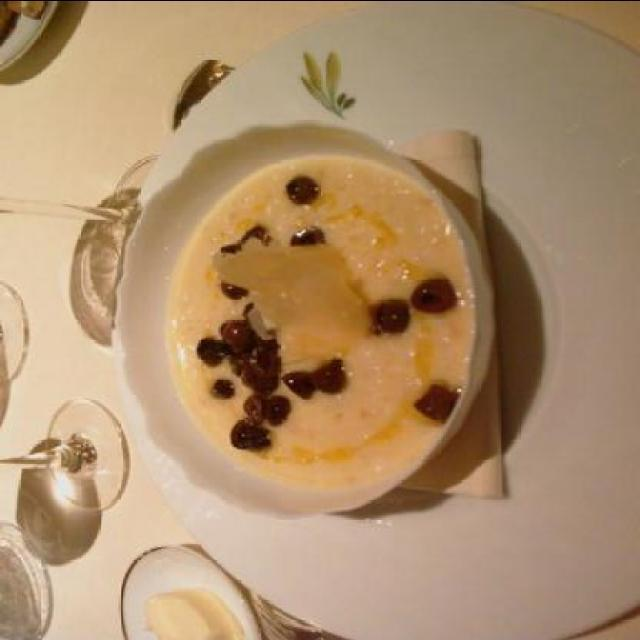Risotto: (148, 150, 482, 488)
